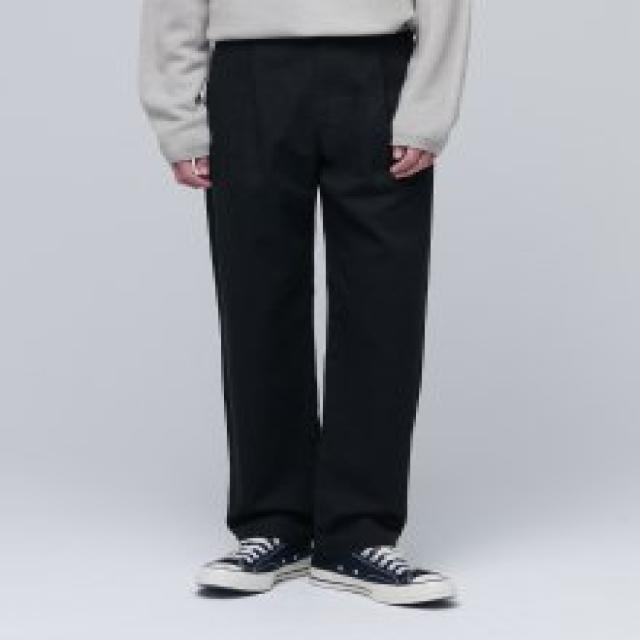long-pants: (204, 31, 436, 564)
